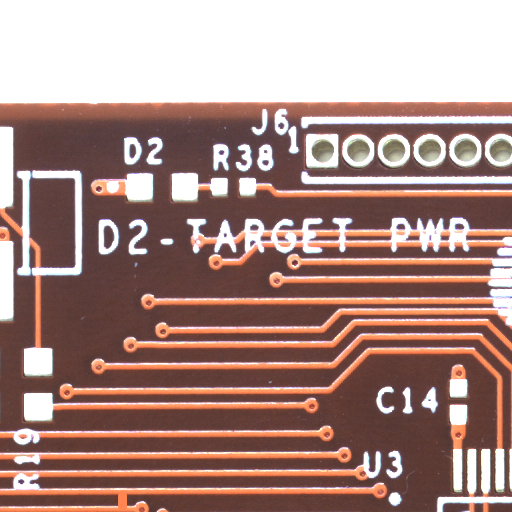Short: (122, 500, 136, 512)
